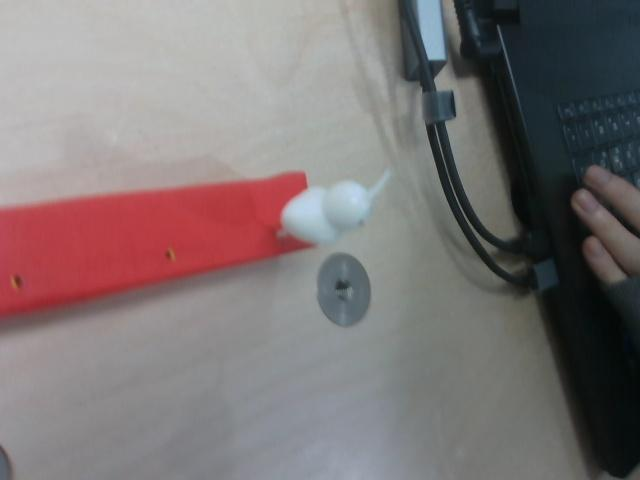w_duck: (280, 182, 371, 242)
